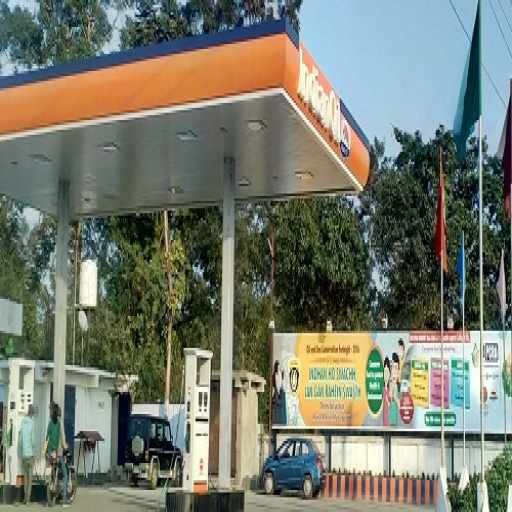roof: (1, 20, 374, 216)
